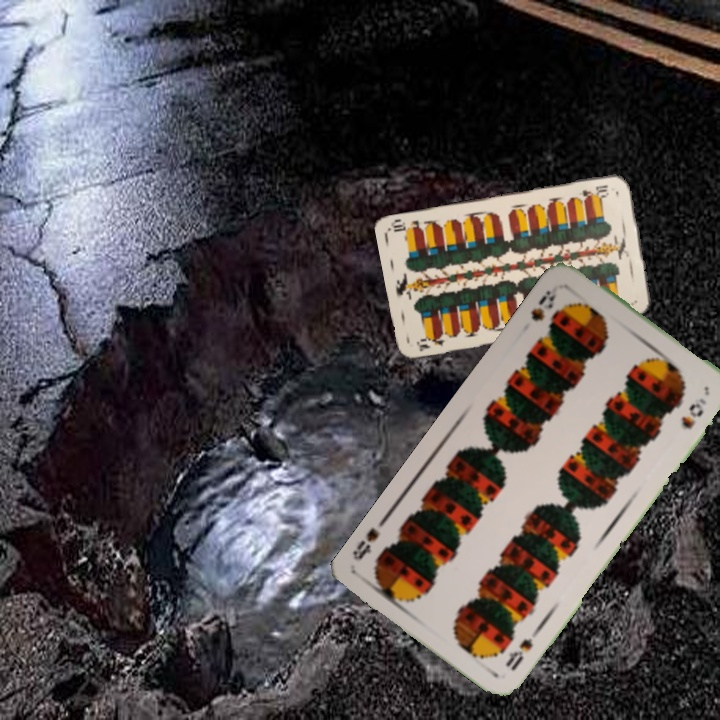E10: (413, 330, 451, 354), (578, 181, 611, 201)
S8: (501, 624, 543, 674), (526, 283, 562, 324)
